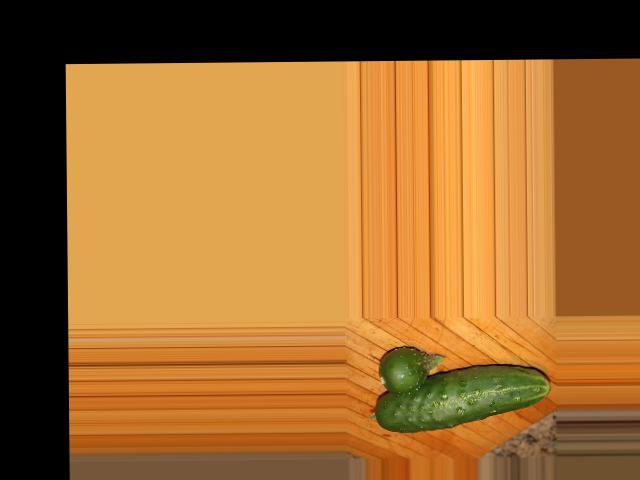cucumber: (374, 363, 551, 432)
